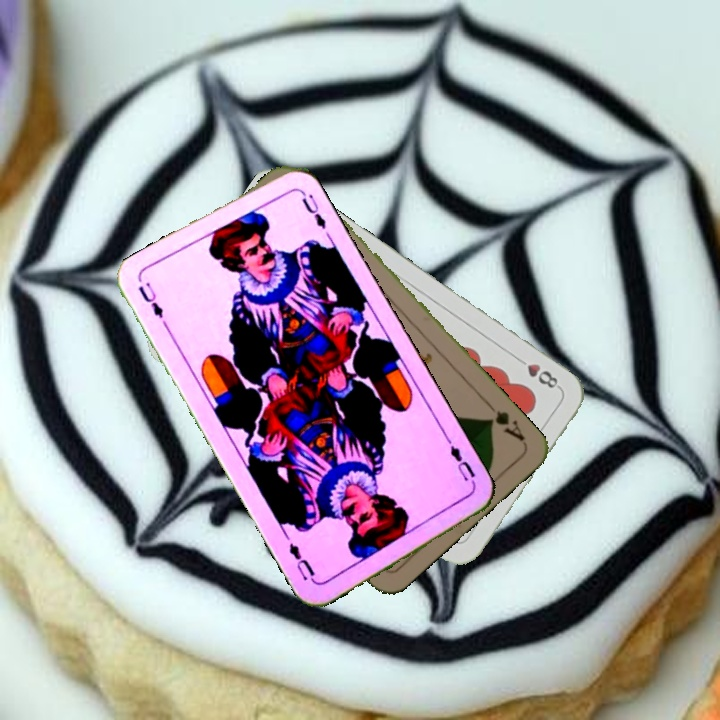EU: (445, 441, 479, 489), (134, 277, 166, 321)
GA: (483, 398, 528, 444)
H8: (511, 353, 563, 392)
